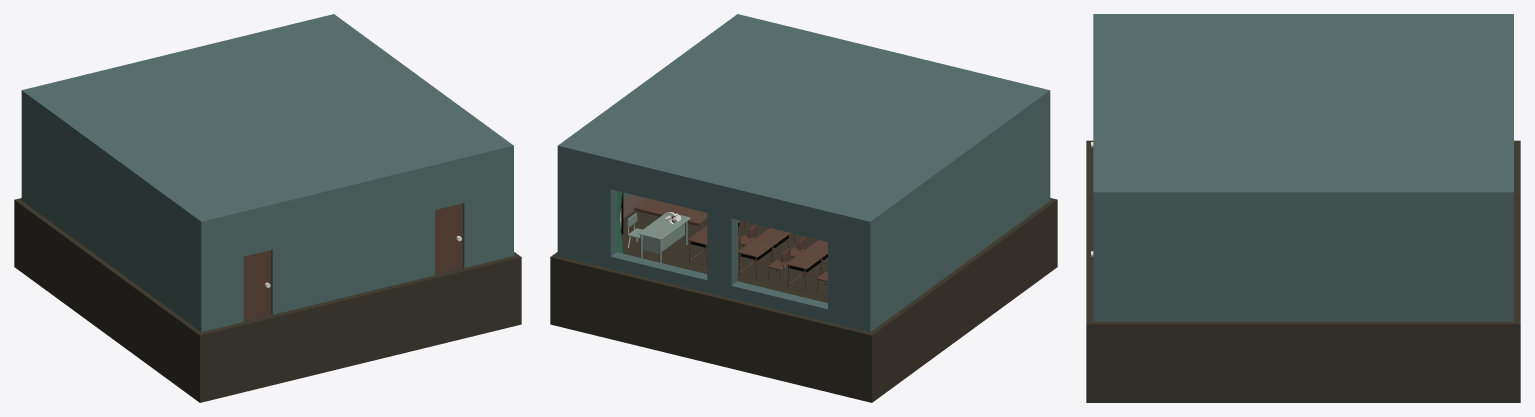
The model's file is Salle_de_classe_V2.fbx.
The picture shows the model from 3 angles, left to right: view 1: azimuth 30°, elevation 25°; view 2: azimuth 150°, elevation 25°; view 3: azimuth 270°, elevation 25°; orthographic projection. The views are drawn at different scales.
Visible parts, largest first — view 1: Plafond, Mur, Sol_a_l'échelle, Door, Door.001; view 2: Plafond, Sol_a_l'échelle, Mur, Bureau_prof, Bureau.017, Estrade, Bureau.018, Bureau.021, Bureau.016; view 3: Plafond, Mur, Sol_a_l'échelle.
Boxes of the visible parts, left/top/right/bottom form: Plafond: left=21, top=14, right=513, bottom=246; Mur: left=21, top=115, right=513, bottom=332; Sol_a_l'échelle: left=14, top=198, right=521, bottom=402; Door: left=435, top=203, right=462, bottom=273; Door.001: left=243, top=250, right=270, bottom=320; Plafond: left=557, top=14, right=1050, bottom=246; Sol_a_l'échelle: left=550, top=198, right=1057, bottom=402; Mur: left=557, top=115, right=1050, bottom=332; Bureau_prof: left=638, top=212, right=690, bottom=262; Bureau.017: left=738, top=240, right=790, bottom=282; Estrade: left=634, top=198, right=707, bottom=226; Bureau.018: left=786, top=251, right=827, bottom=291; Bureau.021: left=754, top=228, right=807, bottom=270; Bureau.016: left=688, top=227, right=741, bottom=267; Plafond: left=1093, top=14, right=1513, bottom=220; Mur: left=1093, top=221, right=1513, bottom=321; Sol_a_l'échelle: left=1086, top=140, right=1520, bottom=402.
Size of the model in its own units: 1000 by 528 by 1000.
